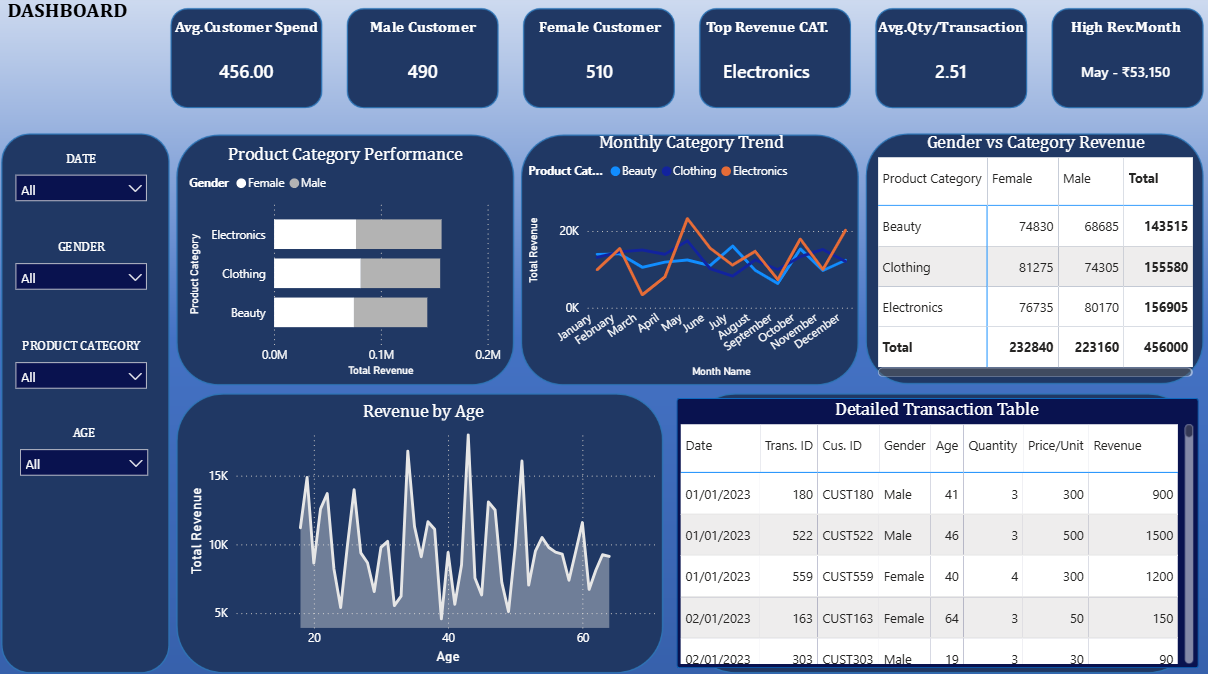

What the dashboard file says about the page in this screenshot:
{"tool":"powerbi","page":{"name":"Page 2","canvas":[1280,720],"ordinal":1},"visuals":[{"type":"shape","box":[710.6,421.4,544.3,281.6],"z":0},{"type":"cardVisual","title":"Avg.Customer Spend","fields":{"Data":["Measures (2).Average Customer Spend"]},"box":[183.3,24.6,160.6,92.6],"z":1000},{"type":"cardVisual","title":"Male Customer","fields":{"Data":["Measures (2).Male Customer Count"]},"box":[360.9,24.6,172,92.6],"z":2000},{"type":"cardVisual","title":"Female Customer","fields":{"Data":["Measures (2).Female Customer Count"]},"box":[551.8,24.6,158.7,92.6],"z":3000},{"type":"cardVisual","title":"High Rev.Month","fields":{"Data":["Measures (2).Highest Revenue Month Detail"]},"box":[1103.6,24.6,151.2,92.6],"z":4000},{"type":"cardVisual","title":"Top Revenue CAT.","fields":{"Data":["Measures (2).Top Revenue Category"]},"box":[727.6,24.6,156.9,92.6],"z":5000},{"type":"cardVisual","title":"Avg.Qty/Transaction","fields":{"Data":["Measures (2).Average Quantity per Transaction"]},"box":[916.5,24.6,162.5,92.6],"z":6000},{"type":"slicer","title":"DATE","fields":{"Values":["Date.Date"]},"box":[13.2,164.4,156.9,92.6],"z":7000},{"type":"slicer","title":"GENDER","fields":{"Values":["Sales.Gender"]},"box":[13.2,257,156.9,102],"z":8000},{"type":"slicer","title":"PRODUCT CATEGORY","fields":{"Values":["Sales.Product Category"]},"box":[13.2,359.1,156.9,90.7],"z":9000},{"type":"slicer","title":"AGE","fields":{"Values":["Sales.Age Group"]},"box":[17,449.8,153.1,98.3],"z":10000},{"type":"stackedAreaChart","title":"Revenue by Age","fields":{"Category":["Sales.Age"],"Y":["Measures (2).Total Revenue"]},"box":[196.5,423.3,500.8,279.7],"z":11000},{"type":"barChart","title":"Product Category Performance","fields":{"Y":["Measures (2).Total Revenue"],"Category":["Product Table.Product Category"],"Series":["Sales.Gender"]},"box":[198.4,156.9,334.5,247.6],"z":12000},{"type":"lineChart","title":"Monthly Category Trend","fields":{"Category":["Date.Month Name"],"Y":["Measures (2).Total Revenue"],"Series":["Product Table.Product Category"]},"box":[551.8,143.6,349.6,260.8],"z":13000},{"type":"pivotTable","title":"Gender vs Category Revenue","fields":{"Rows":["Product Table.Product Category"],"Columns":["Sales.Gender"],"Values":["Measures (2).Total Revenue"]},"box":[916.5,143.6,338.3,260.8],"z":14000},{"type":"tableEx","title":"Detailed Transaction Table","fields":{"Values":["Date.Date","Sales.Transaction ID","Sales.Customer ID","Sales.Gender","Sales.Age","Sales.Quantity","Sales.Price per Unit","Sales.Total Amount"]},"box":[709.7,422,545.1,282],"z":15000},{"type":"textbox","box":[0,0,153.3,153.3],"z":15001}]}

Visuals, with their boxes in screenshot pixels (x1, y1, x2, y2), scaled from the page's 1280x720 canvas onto the 1208x674 screenshot:
shape: [671, 394, 1184, 658]
"Avg.Customer Spend" cardVisual: [173, 23, 325, 110]
"Male Customer" cardVisual: [341, 23, 503, 110]
"Female Customer" cardVisual: [521, 23, 671, 110]
"High Rev.Month" cardVisual: [1042, 23, 1184, 110]
"Top Revenue CAT." cardVisual: [687, 23, 835, 110]
"Avg.Qty/Transaction" cardVisual: [865, 23, 1018, 110]
"DATE" slicer: [12, 154, 161, 241]
"GENDER" slicer: [12, 241, 161, 336]
"PRODUCT CATEGORY" slicer: [12, 336, 161, 421]
"AGE" slicer: [16, 421, 161, 513]
"Revenue by Age" stackedAreaChart: [185, 396, 658, 658]
"Product Category Performance" barChart: [187, 147, 503, 379]
"Monthly Category Trend" lineChart: [521, 134, 851, 379]
"Gender vs Category Revenue" pivotTable: [865, 134, 1184, 379]
"Detailed Transaction Table" tableEx: [670, 395, 1184, 659]
textbox: [0, 0, 145, 144]
